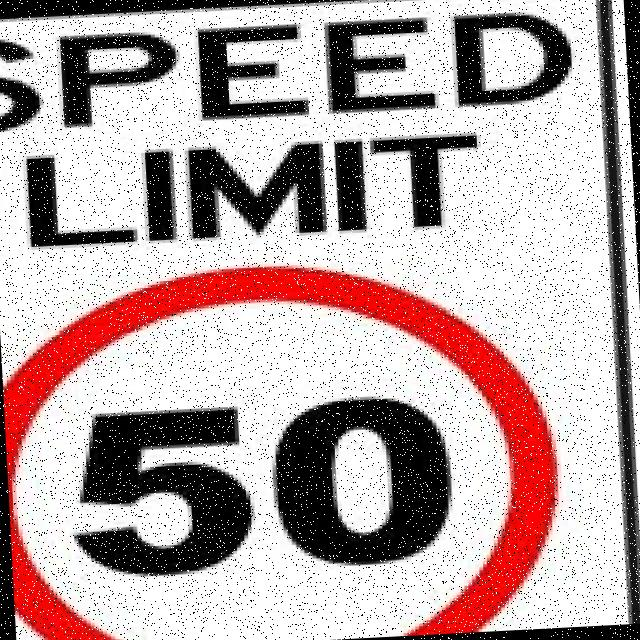speed_limit_50: (0, 237, 561, 640)
